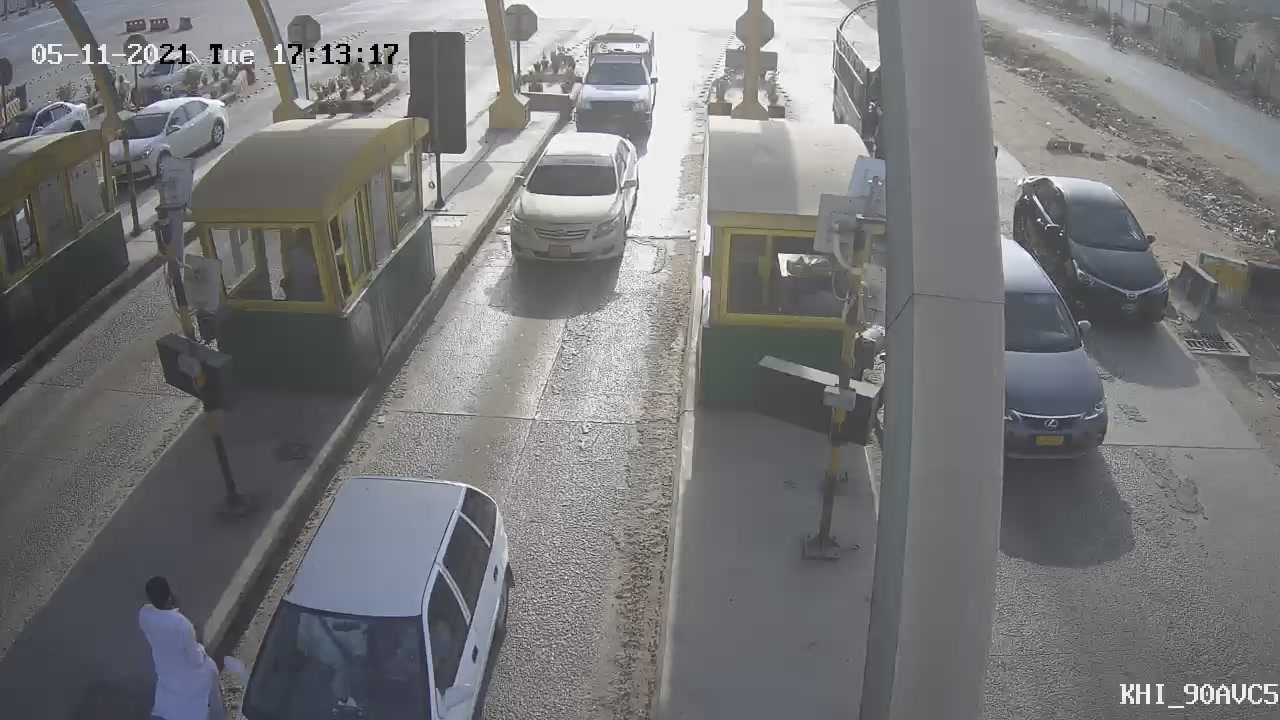F1: (491, 126, 657, 283), (552, 12, 683, 155)
